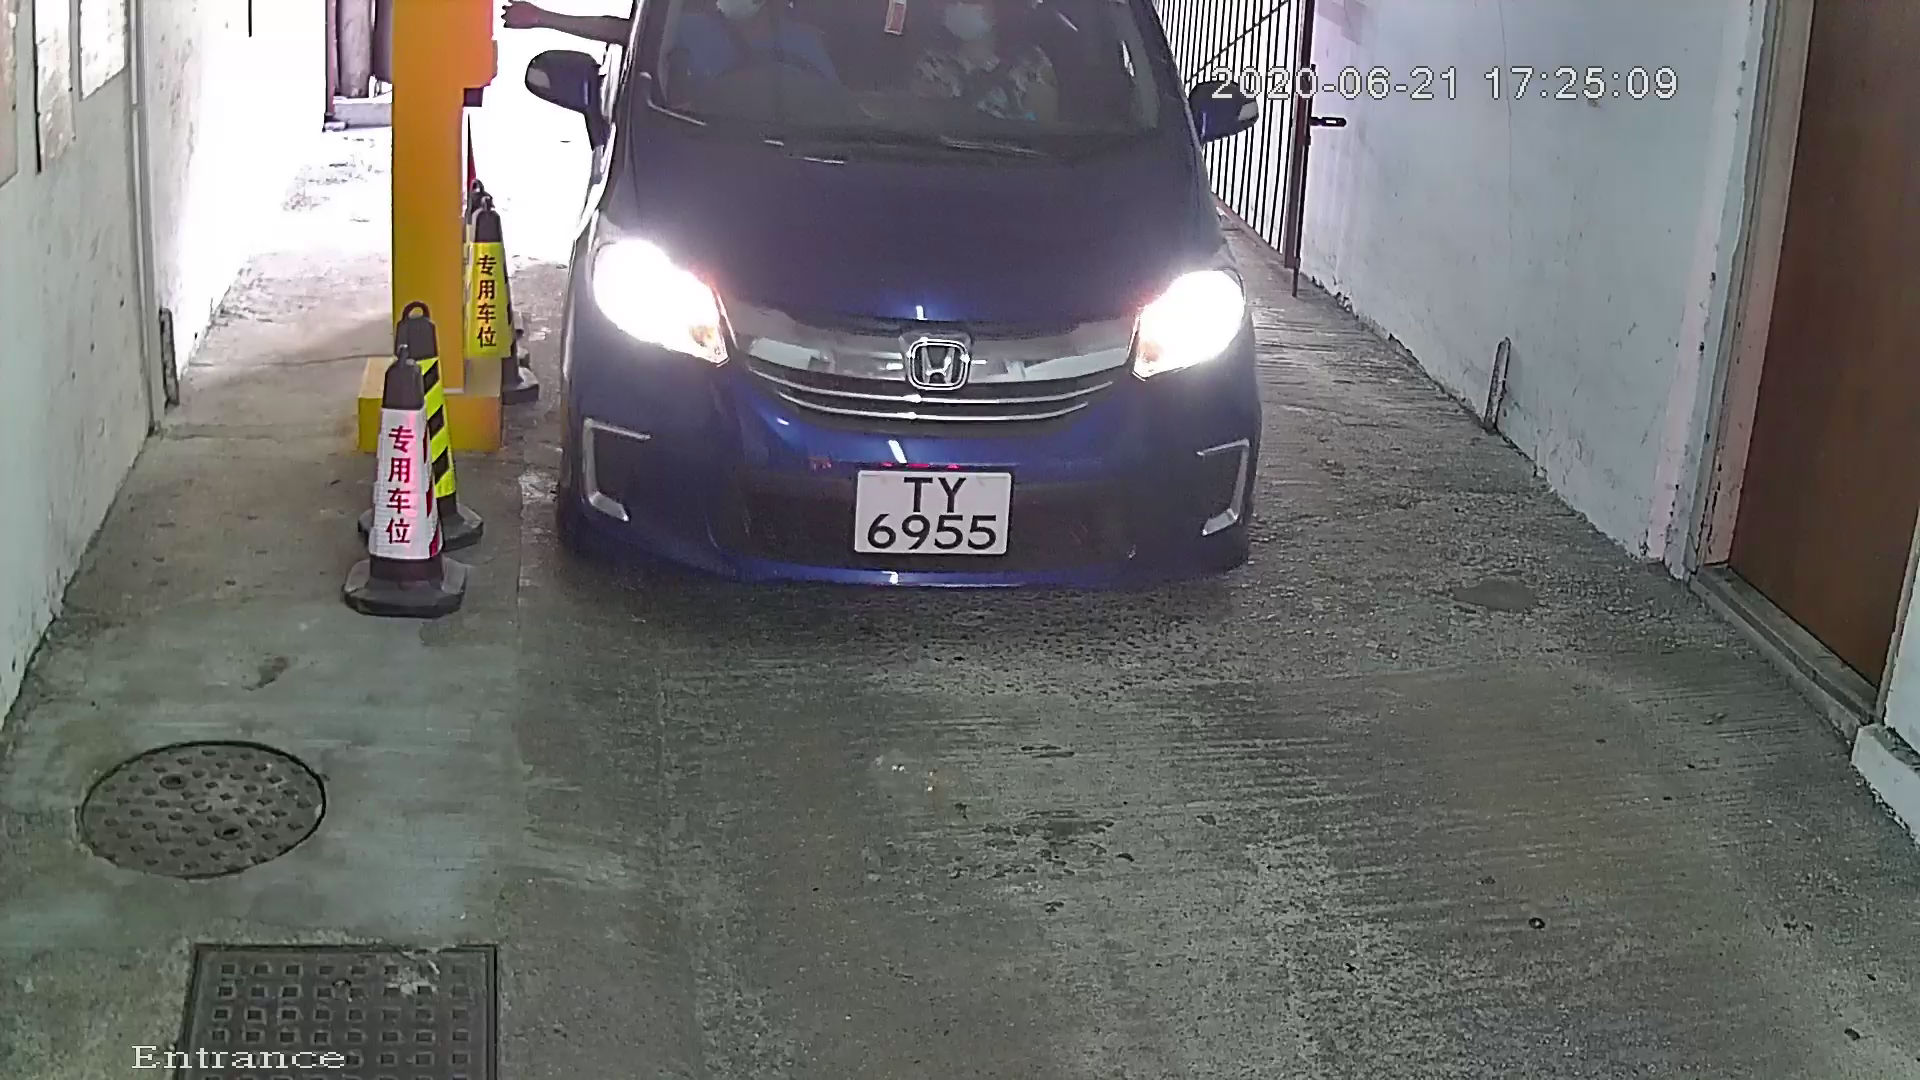privatecar: (520, 1, 1303, 692)
